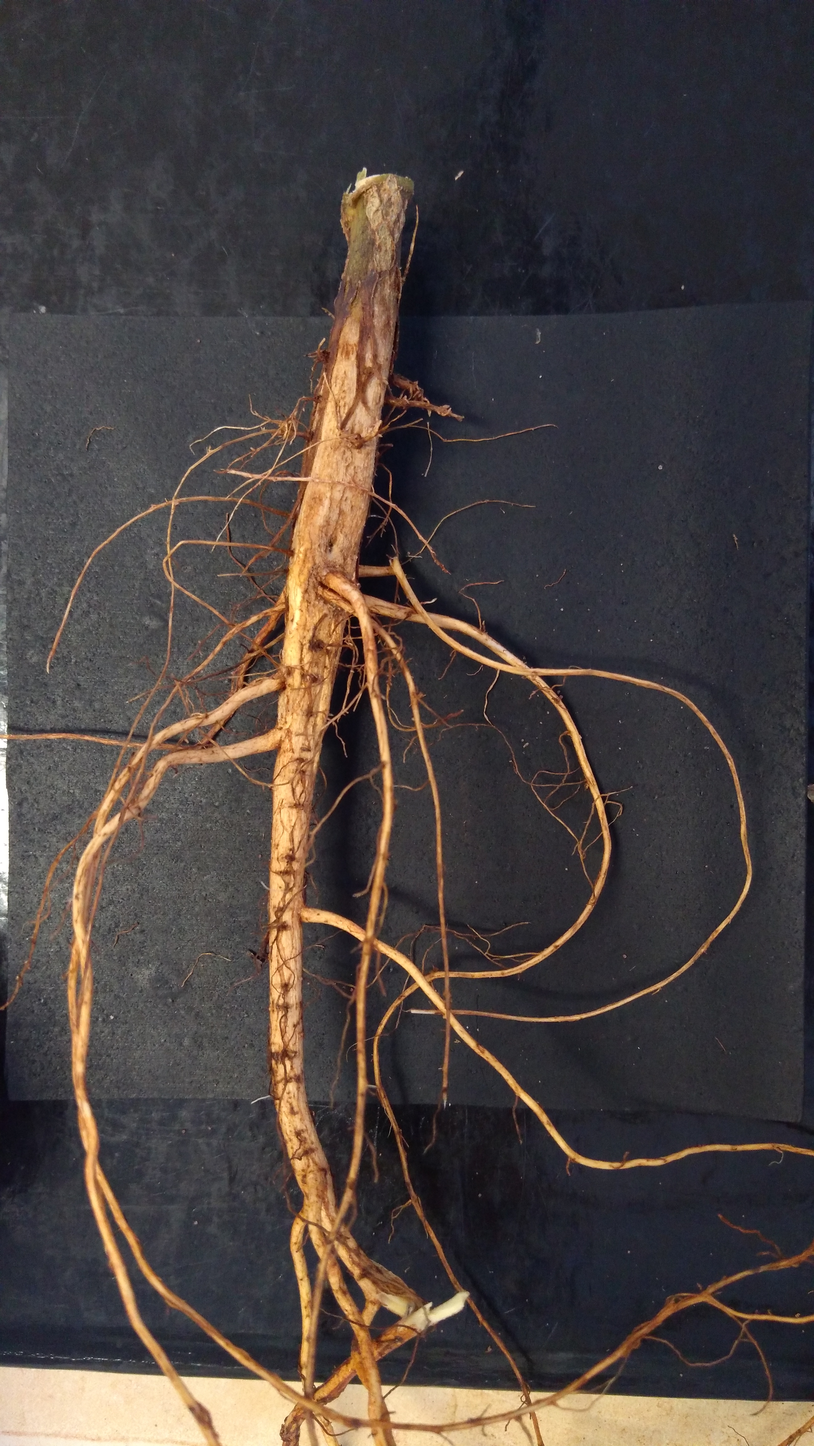nodule: (276, 417, 300, 440), (347, 432, 365, 449), (313, 347, 330, 364), (279, 1423, 291, 1442), (436, 404, 452, 417)
